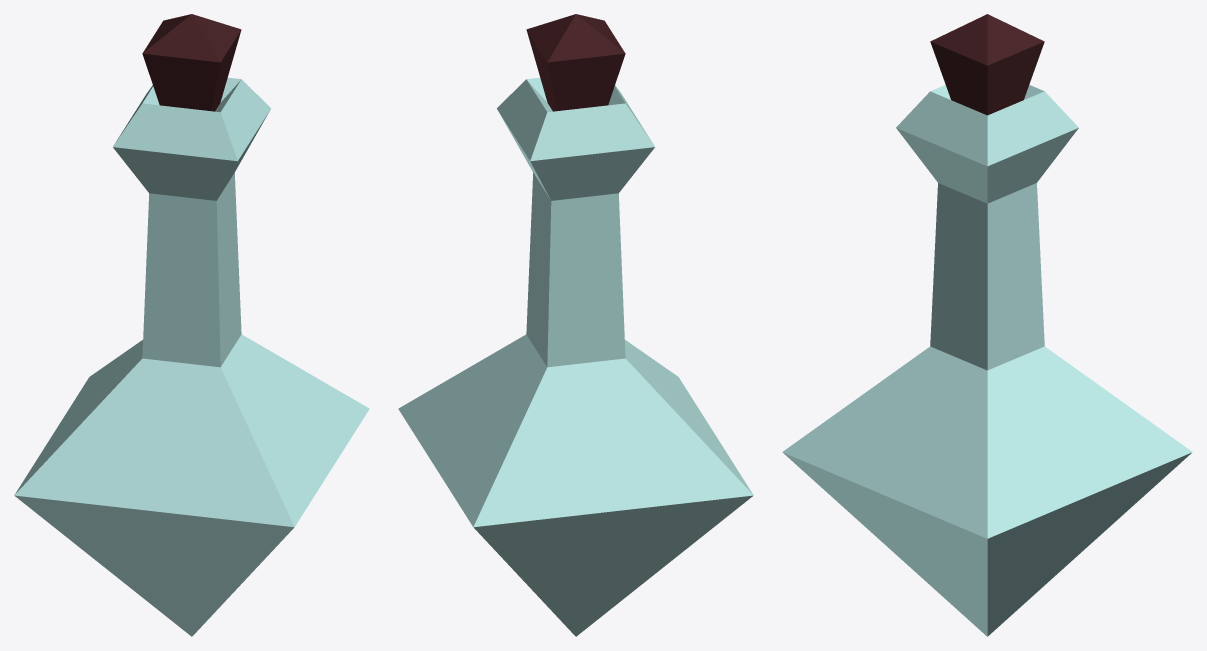
File: potion.fbx
The picture shows the model from 3 angles, left to right: view 1: azimuth 30°, elevation 25°; view 2: azimuth 150°, elevation 25°; view 3: azimuth 270°, elevation 25°; orthographic projection.
Visible parts, largest first — view 1: Plane; view 2: Plane; view 3: Plane.
Part boxes in pixels (box(x1,y1,x2,y2)): Plane: box(14, 14, 369, 636); Plane: box(398, 14, 753, 636); Plane: box(782, 14, 1192, 636).
Bounding box in the file's own units: 137 × 229 × 137.
